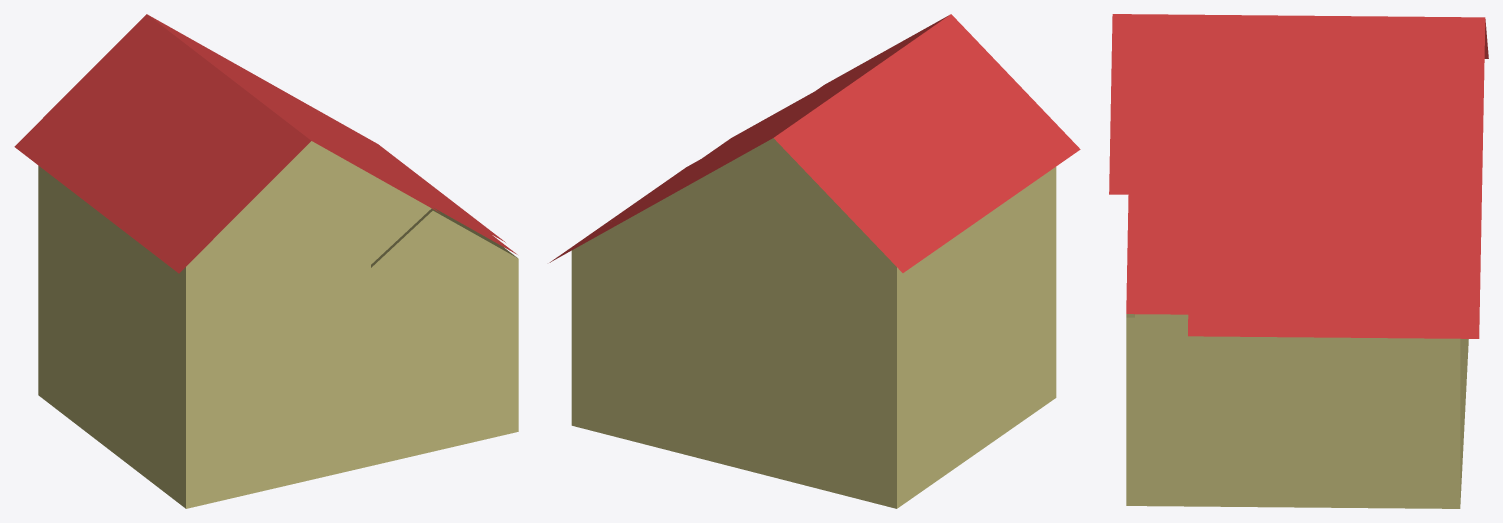
3 views of the same model, side by side, from view 1: azimuth 30°, elevation 25°; view 2: azimuth 150°, elevation 25°; view 3: azimuth 270°, elevation 25° (orthographic). The views are drawn at different scales.
Bounding box in the file's own units: 11.85 × 9.78 × 10.76.
